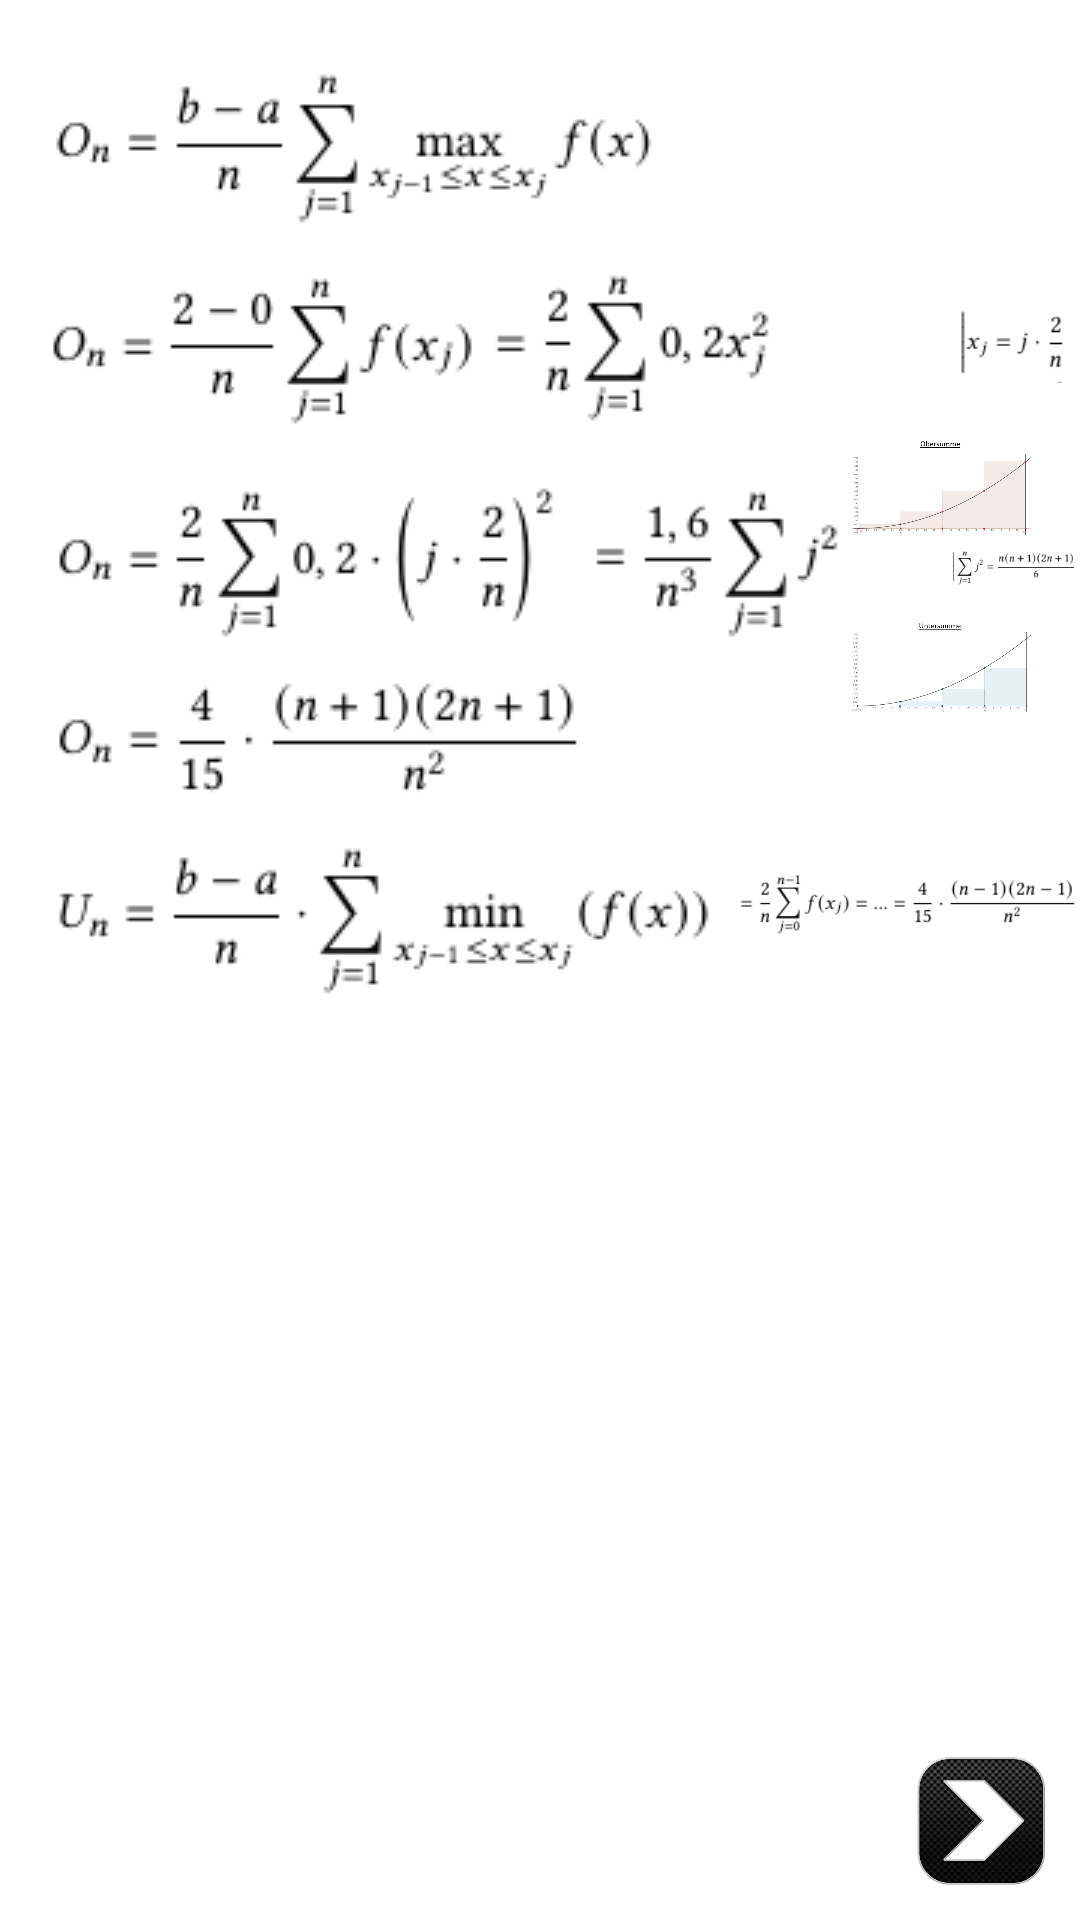

Locate icon controls on the screen. Image size 1080 × 1920, boxes as {"x1": x1, "y1": y1, "x2": x2, "y2": y2}.
nextbutton: {"x1": 918, "y1": 1757, "x2": 1045, "y2": 1885}
